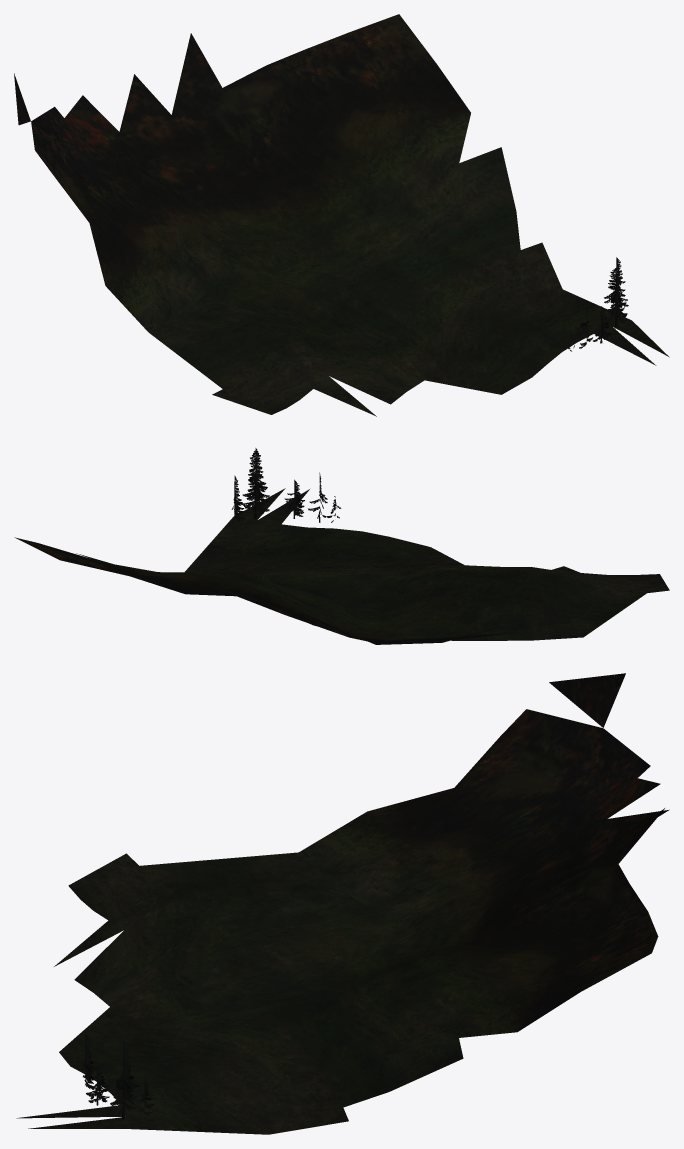
File: cell_8_-19.gltf
3 views of the same model, one above another, from view 1: azimuth 30°, elevation 25°; view 2: azimuth 150°, elevation 25°; view 3: azimuth 270°, elevation 25° (orthographic). The views are drawn at different scales.
Parts seen in each view (by area): view 1: cell_8_-19; view 2: cell_8_-19; view 3: cell_8_-19.
Part boxes in pixels (x1,y1,x2,y2): cell_8_-19: [14, 14, 669, 416]; cell_8_-19: [14, 448, 669, 644]; cell_8_-19: [16, 673, 669, 1134].
Bounding box in the file's own units: 281 × 123 × 306.
4 materials, 4 textured.
